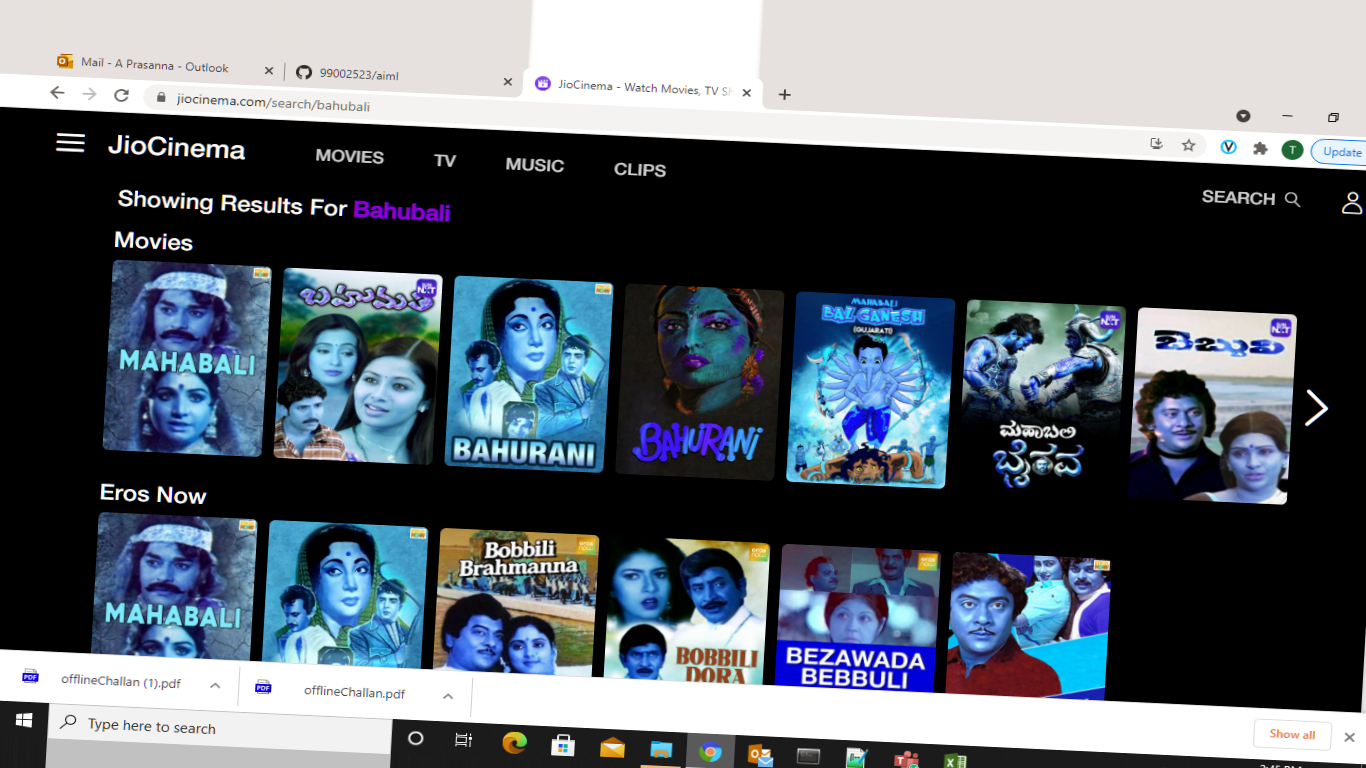profileicon: (1333, 178, 1366, 223)
resultsfound: (100, 171, 493, 230)
searchicon: (1182, 175, 1311, 220)
